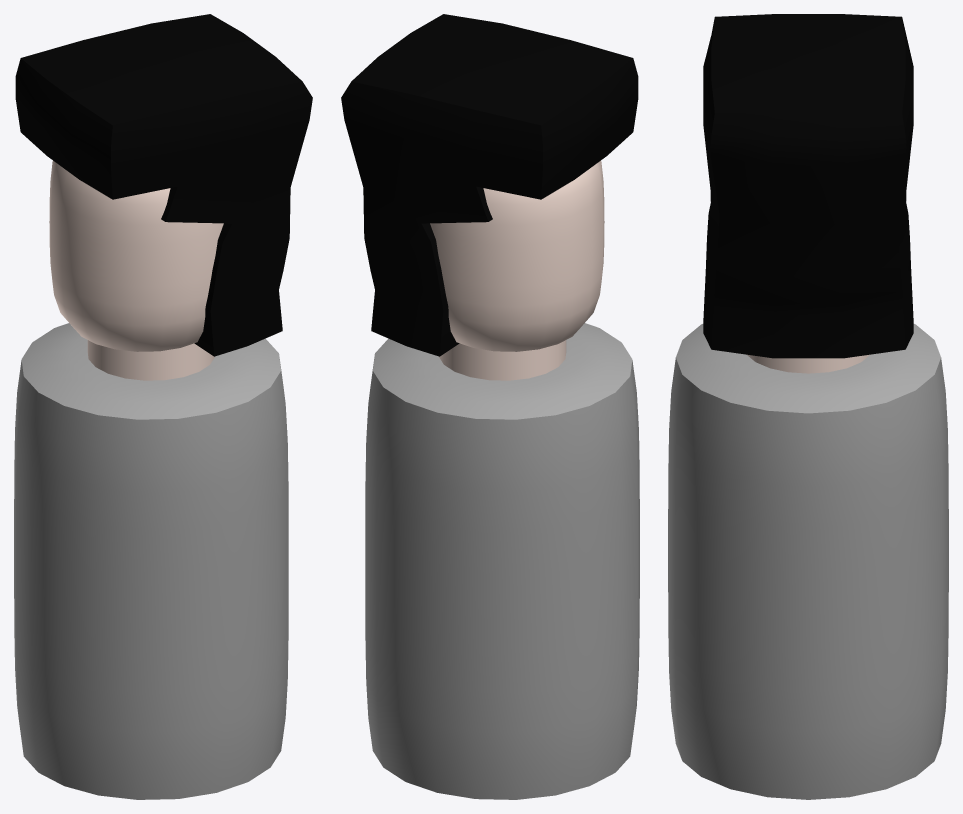
Rendered from hair 1.fbx.
The picture shows the model from 3 angles, left to right: view 1: azimuth 30°, elevation 25°; view 2: azimuth 150°, elevation 25°; view 3: azimuth 270°, elevation 25°; orthographic projection.
Visible parts, largest first — view 1: pCylinder2, pCube1, pCylinder1, pCylinder3; view 2: pCylinder2, pCube1, pCylinder1, pCylinder3; view 3: pCylinder2, pCube1, pCylinder3.
Part boxes in pixels (x1,y1,x2,y2): pCylinder2: (14, 323, 288, 799); pCube1: (15, 14, 312, 356); pCylinder1: (49, 160, 223, 351); pCylinder3: (87, 340, 214, 380); pCylinder2: (365, 323, 639, 799); pCube1: (341, 14, 638, 356); pCylinder1: (430, 160, 604, 351); pCylinder3: (439, 340, 566, 380); pCylinder2: (668, 324, 948, 799); pCube1: (703, 14, 913, 358); pCylinder3: (747, 354, 869, 373).
Size of the model in its own units: 2.12 by 5.59 by 2.03.
